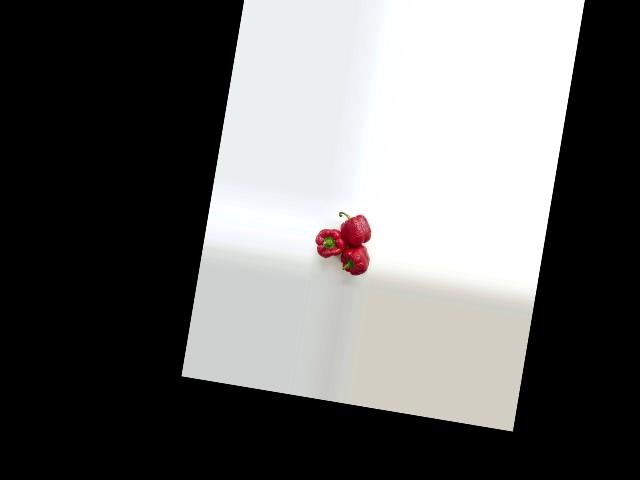bell_pepper: (332, 203, 376, 246)
